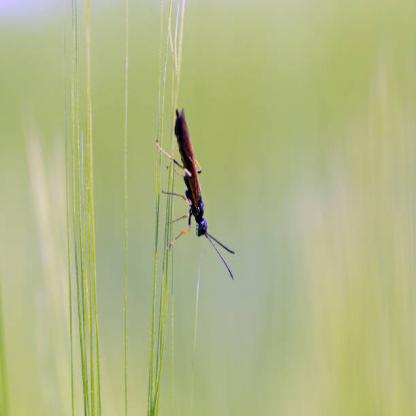sawfly: (157, 102, 233, 279)
